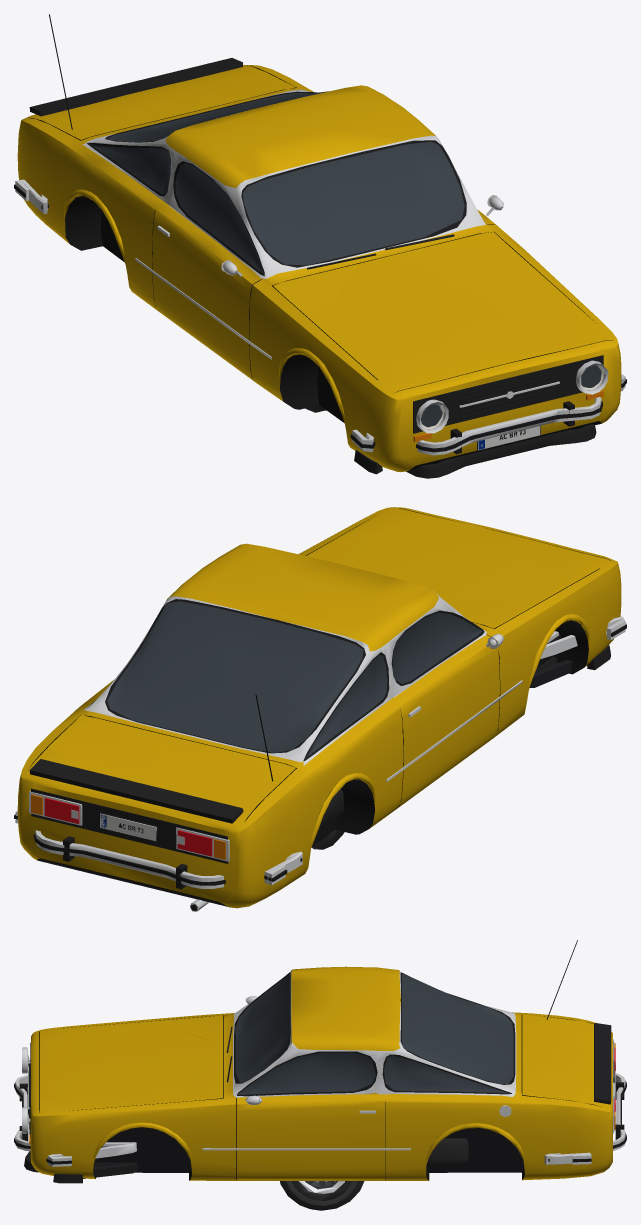
Rendered from kadett-low.glb.
3 views of the same model, one above another, from view 1: azimuth 30°, elevation 25°; view 2: azimuth 150°, elevation 25°; view 3: azimuth 270°, elevation 25° (orthographic). The views are drawn at different scales.
Visible parts, largest first — view 1: body; view 2: body; view 3: body, wheel.
Part boxes in pixels (x1,y1,x2,y2): body: (14,14,626,478); body: (14,507,626,911); body: (14,940,626,1183); wheel: (280,1181,364,1210).
Size of the model in its own units: 1.77 by 1.81 by 4.41.
